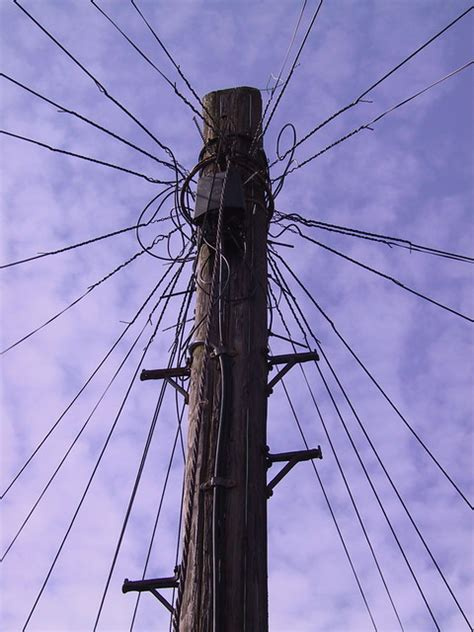pole: (92, 54, 378, 632)
